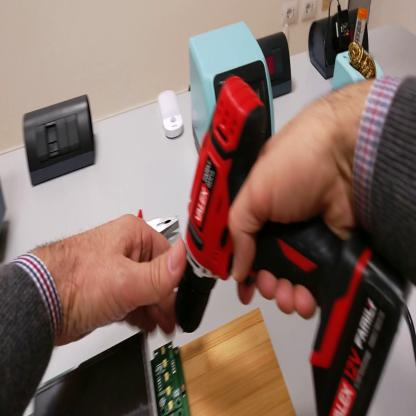electric screwdriver: (175, 78, 413, 370)
hand: (226, 97, 369, 322), (40, 213, 189, 343)
low voltage board: (22, 327, 189, 414)
oscilloscope: (1, 175, 10, 245)
pliers: (136, 208, 180, 239)
socket: (309, 9, 370, 82), (259, 28, 294, 94)
welder base: (334, 2, 387, 89)
welder station: (190, 20, 276, 159)
working area: (179, 308, 297, 414)
